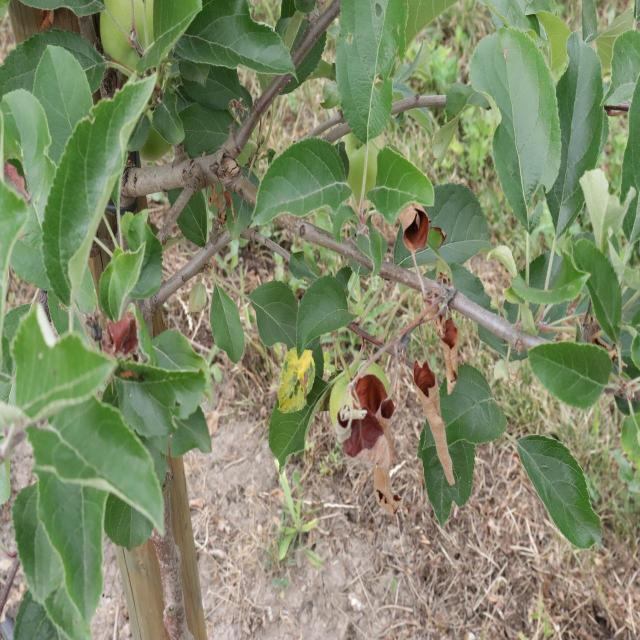-FireBlight-: (412, 298, 474, 499), (334, 354, 403, 525)
